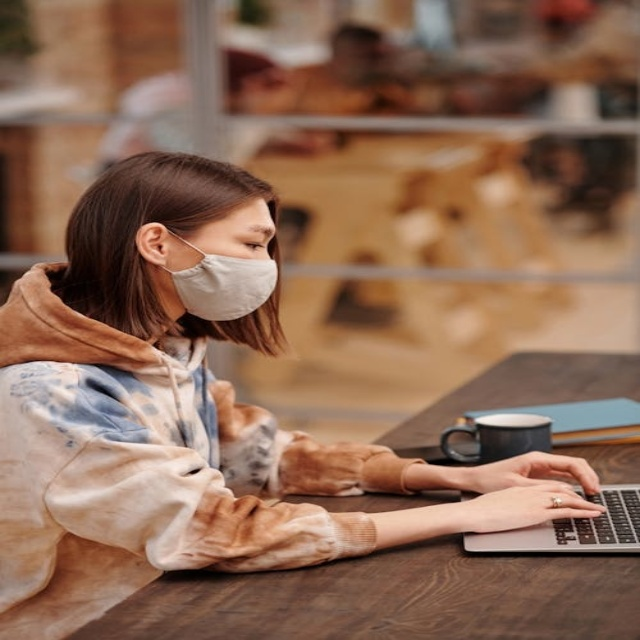Mascara: (159, 226, 278, 321)
Sin_gafas: (244, 241, 267, 252)
Sin_guantes: (460, 435, 608, 494), (443, 483, 606, 536)
